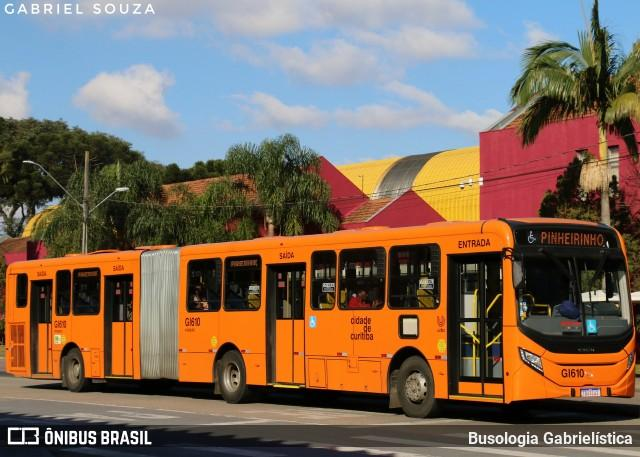PINHEIRINHO: (537, 226, 608, 248)
